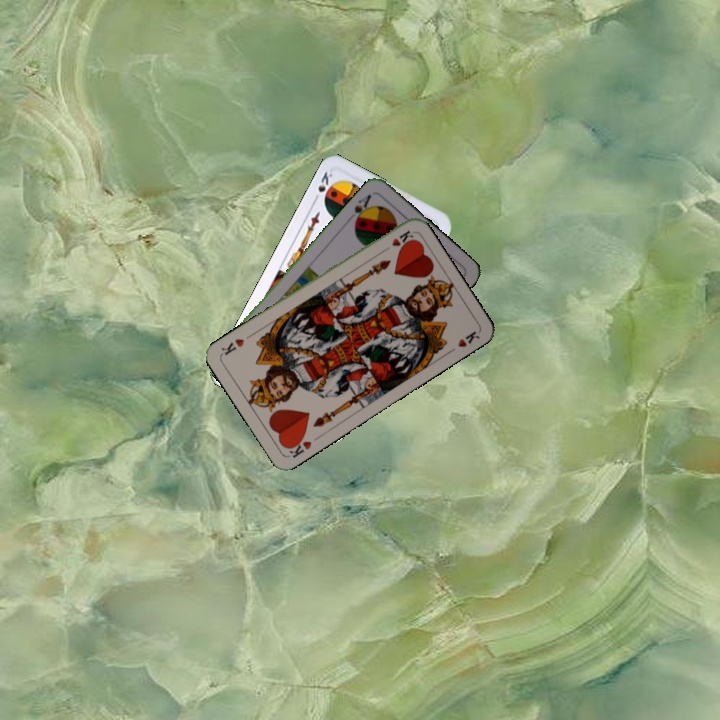HK: (378, 226, 416, 255), (282, 432, 314, 461)
SA: (345, 190, 375, 227)
SK: (309, 167, 336, 205)
